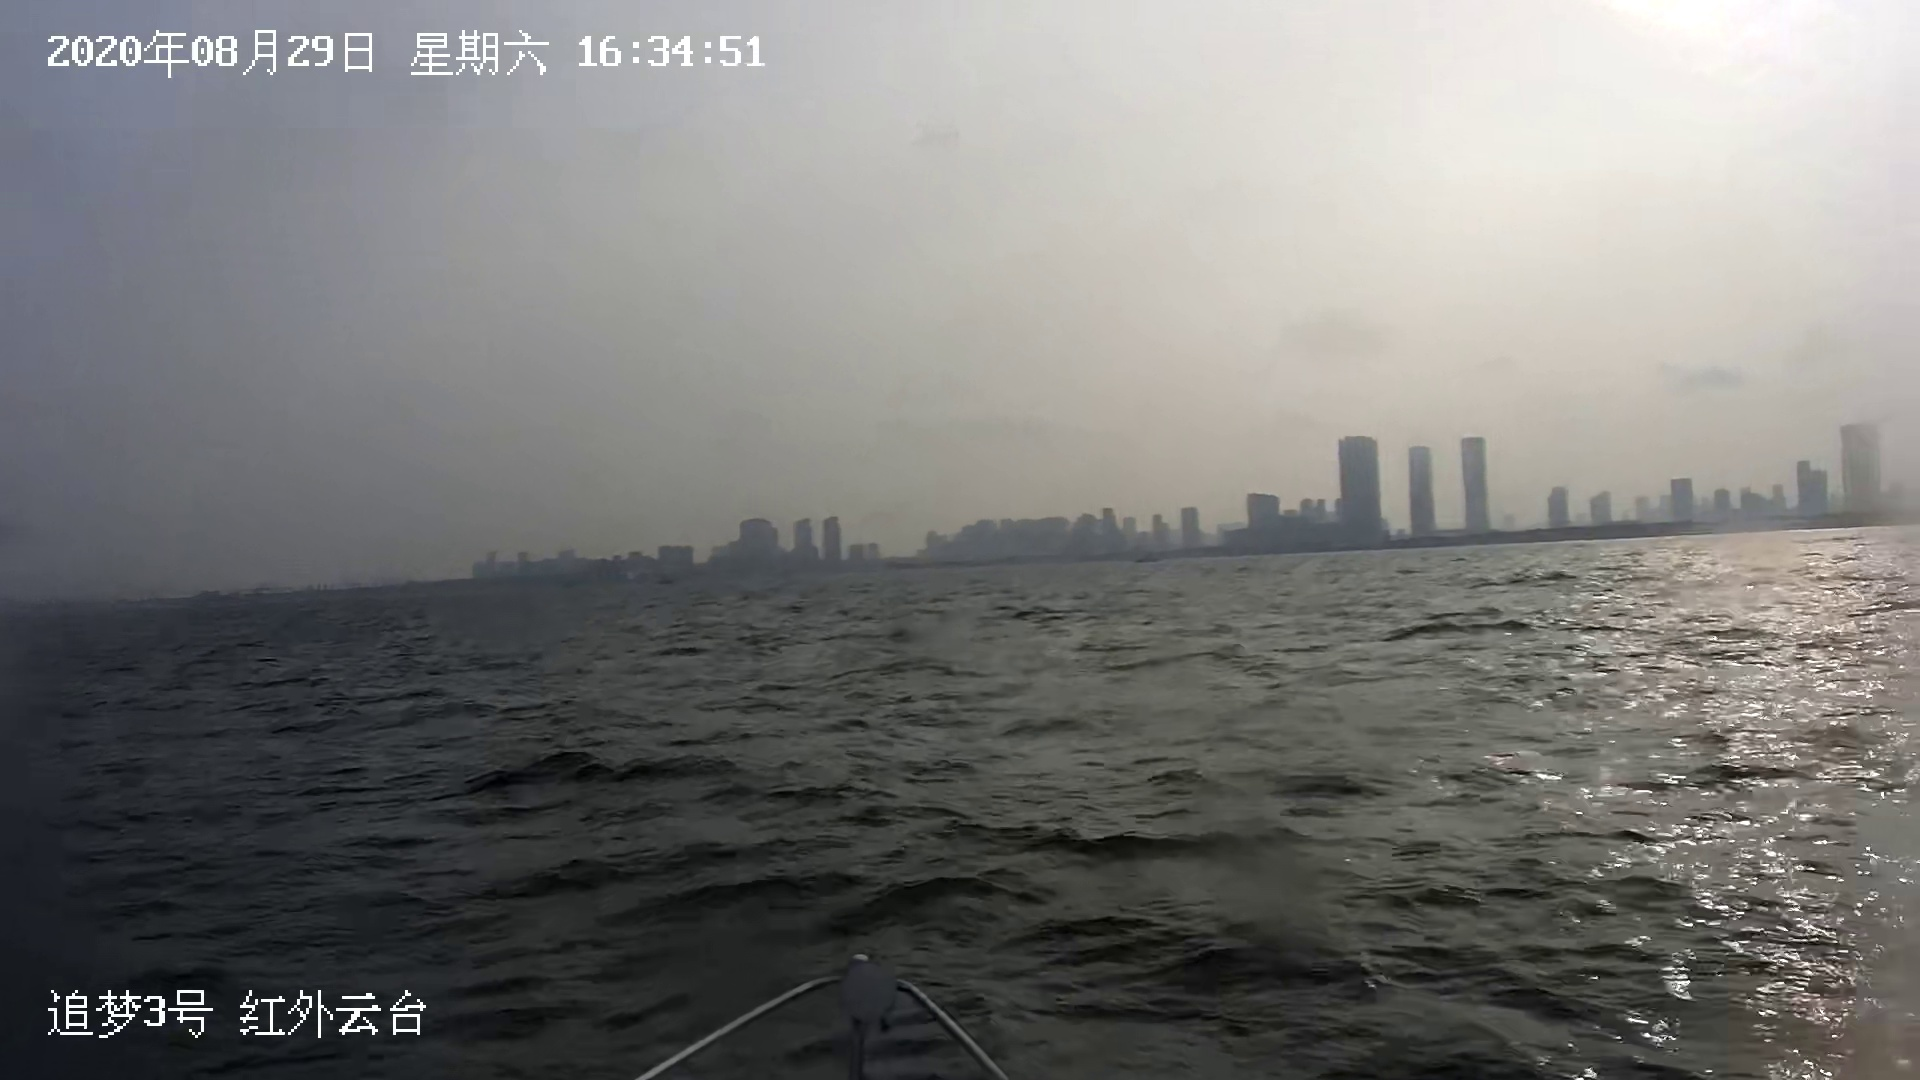coast: (15, 413, 1920, 632)
